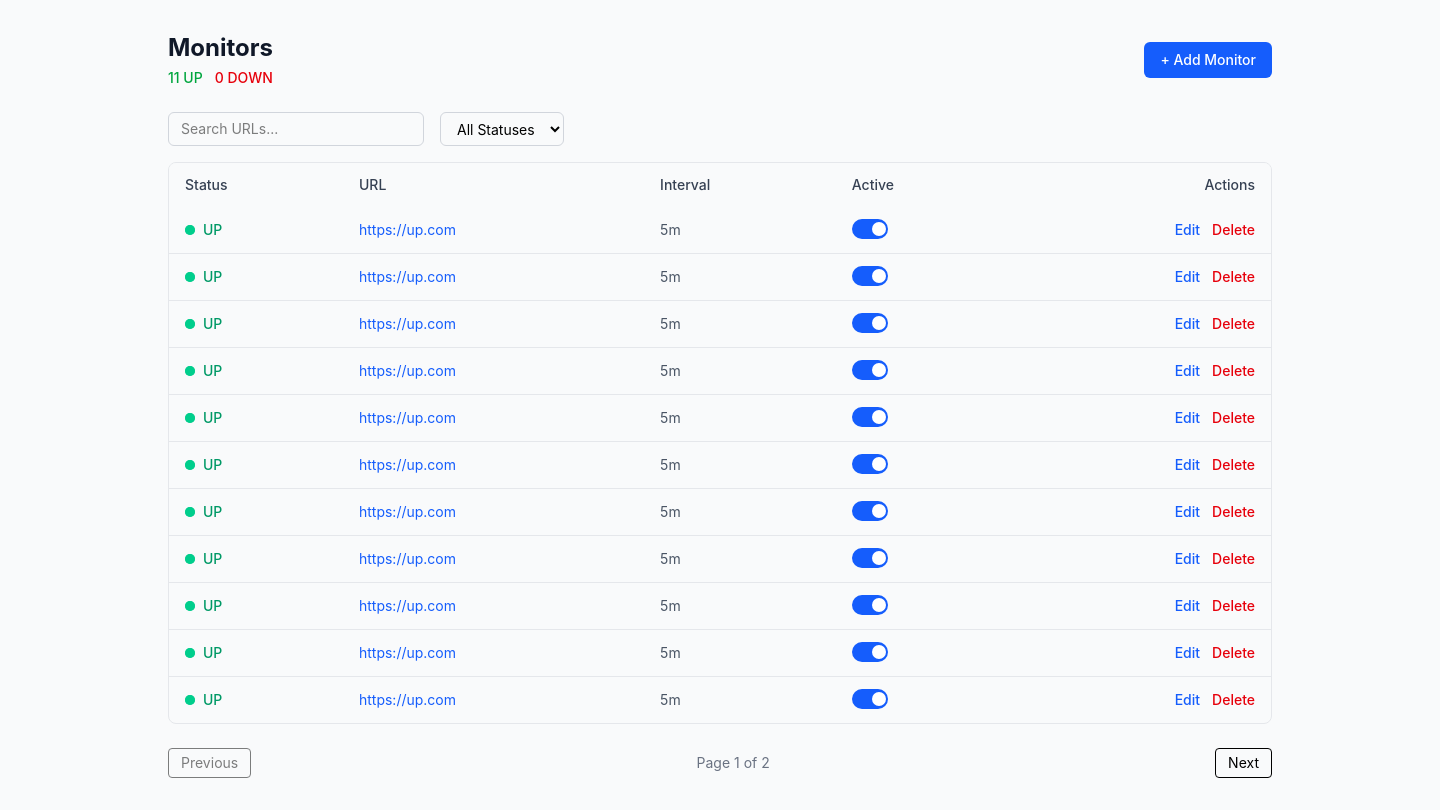
Test: Dashboard › handles clicking next and previous page
(page scrolled)
Click the button "Next". click: (1244, 763)
box: [1215, 748, 1272, 778]
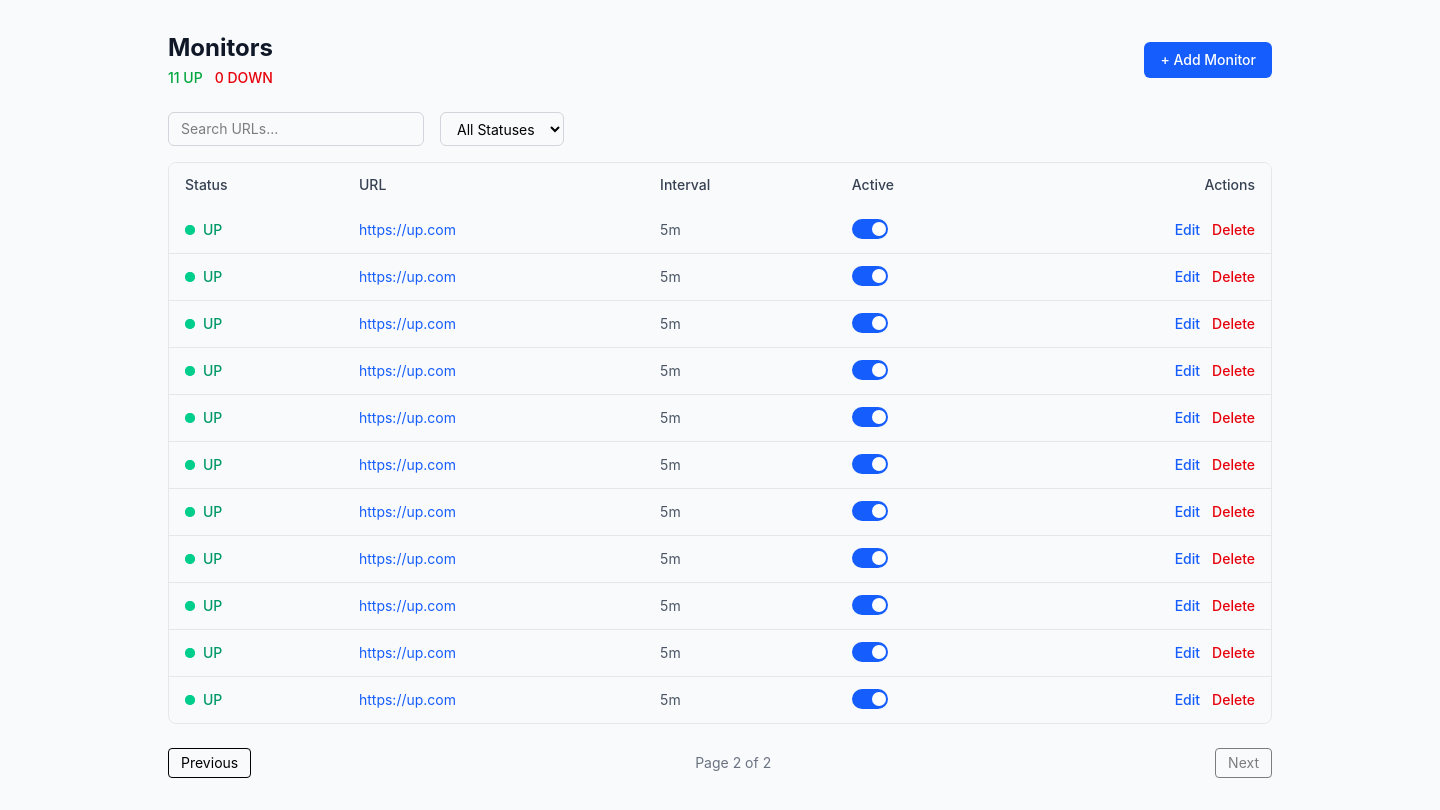
Result: the text "Page 2 of 2" is shown at [695, 753, 771, 773]
Click the button "Previous". click: (210, 763)
box: [168, 748, 251, 778]
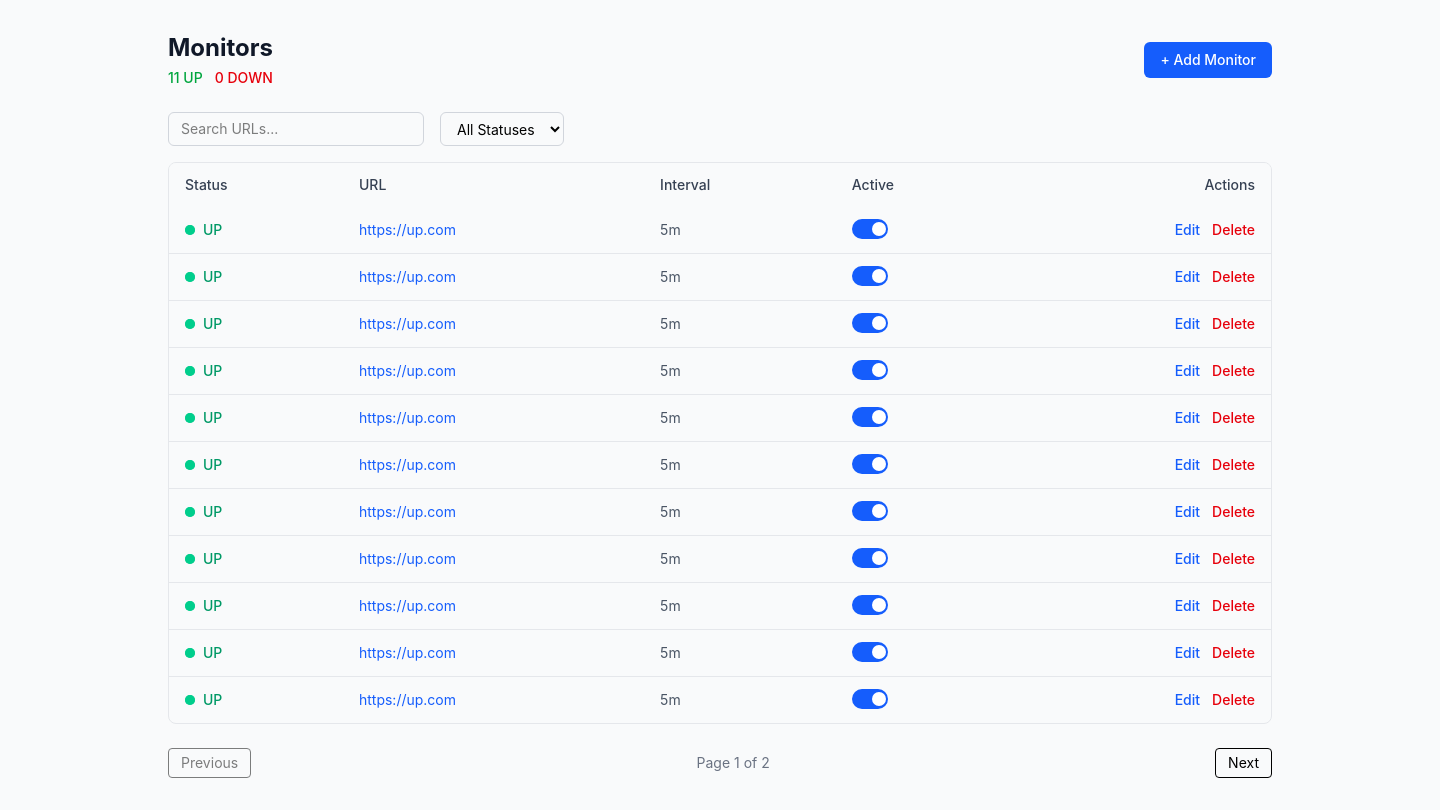
Result: the text "Page 1 of 2" is shown at [696, 753, 770, 773]
